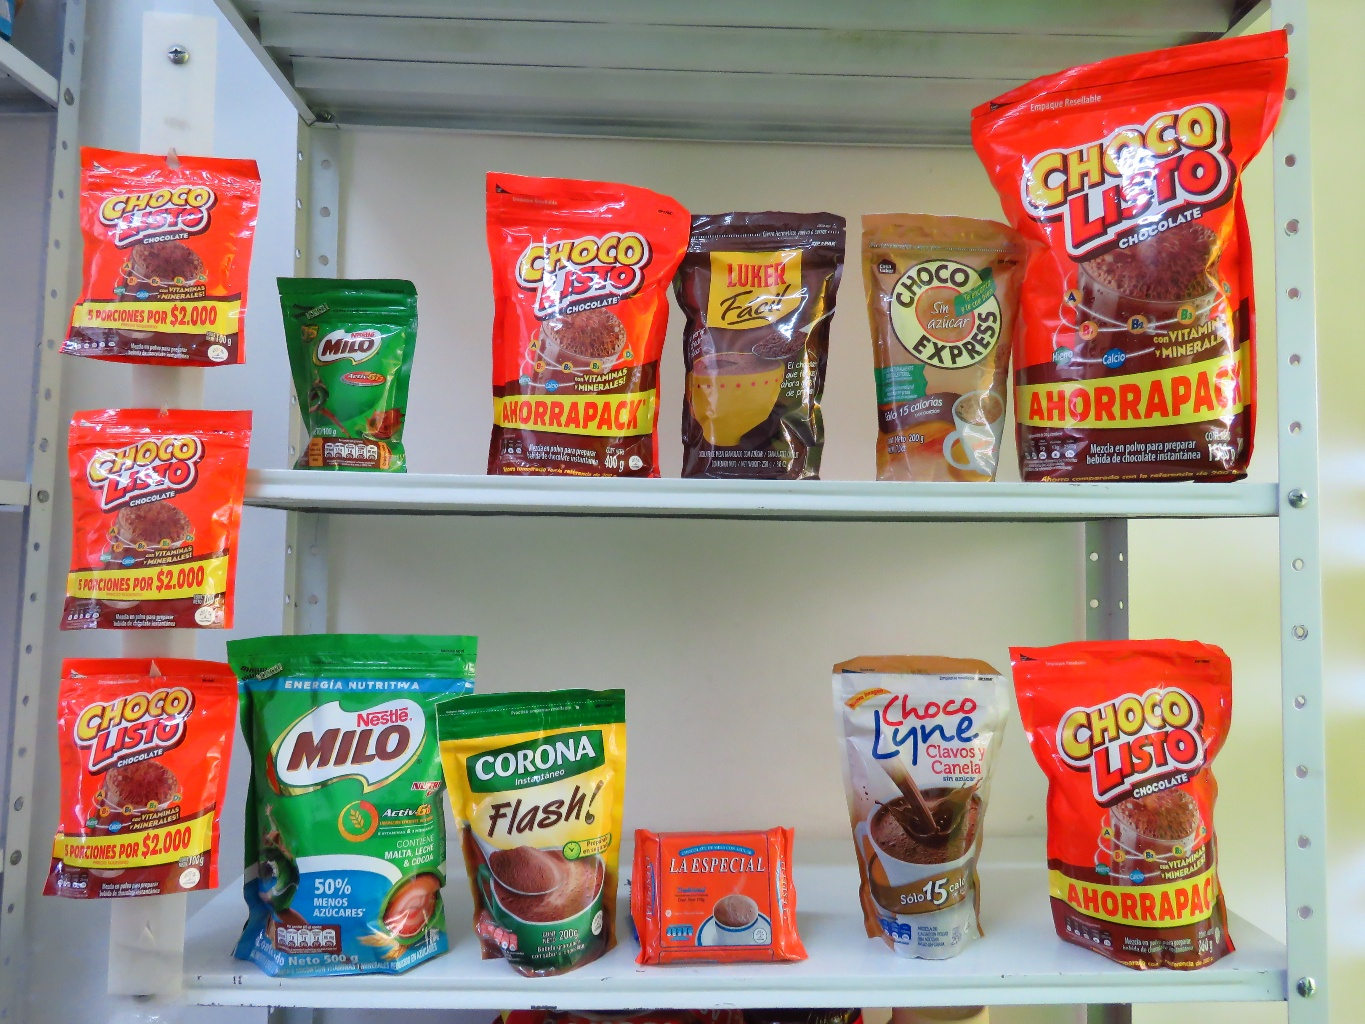COL0170103DYP1,500: (961, 20, 1297, 490)
COL0170103DYP10000: (35, 655, 226, 898)
COL0170103DYP36000: (1011, 635, 1255, 975)
COL0170103DYP40000: (484, 165, 667, 478)
COL0170203DYP10000: (265, 262, 422, 468)
COL0170205DYP50000: (237, 630, 456, 977)
